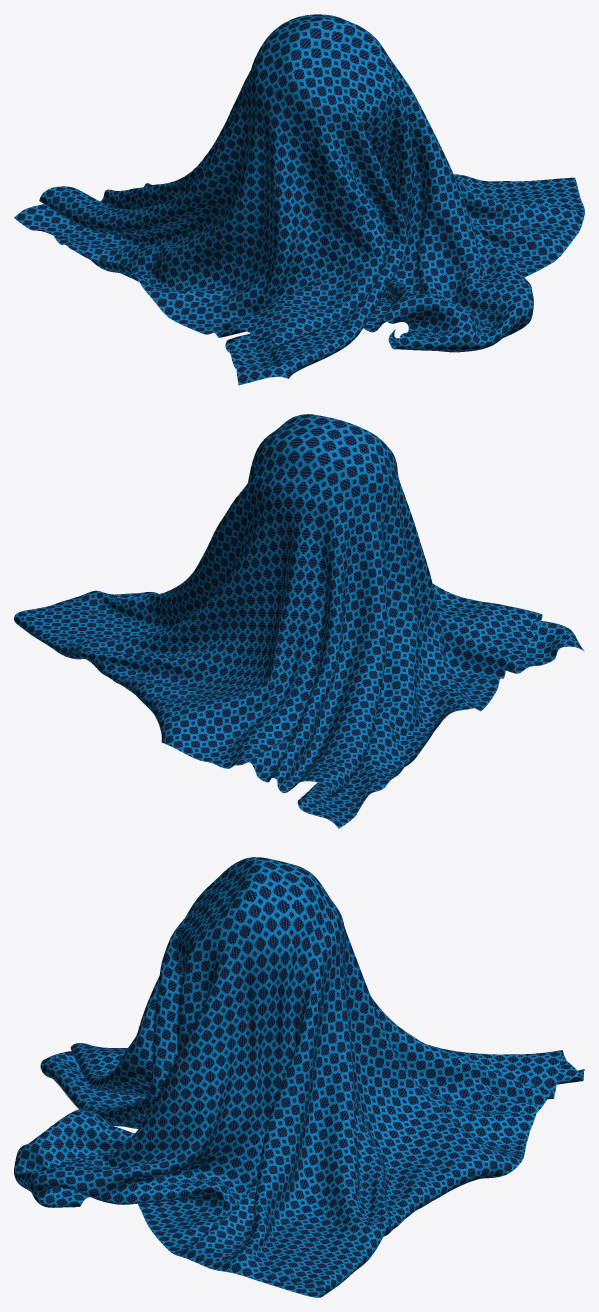
The model's file is SheenCloth.gltf.
3 views of the same model, one above another, from view 1: azimuth 30°, elevation 25°; view 2: azimuth 150°, elevation 25°; view 3: azimuth 270°, elevation 25° (orthographic). The views are drawn at different scales.
Visible parts, largest first — view 1: SheenCloth_mesh; view 2: SheenCloth_mesh; view 3: SheenCloth_mesh.
Boxes of the visible parts, <box> form: SheenCloth_mesh: <box>14,14,584,385</box>; SheenCloth_mesh: <box>14,414,584,828</box>; SheenCloth_mesh: <box>14,857,584,1297</box>.
Bounding box in the file's own units: 0.0721 × 0.0403 × 0.0713.
1 material, 1 textured.
